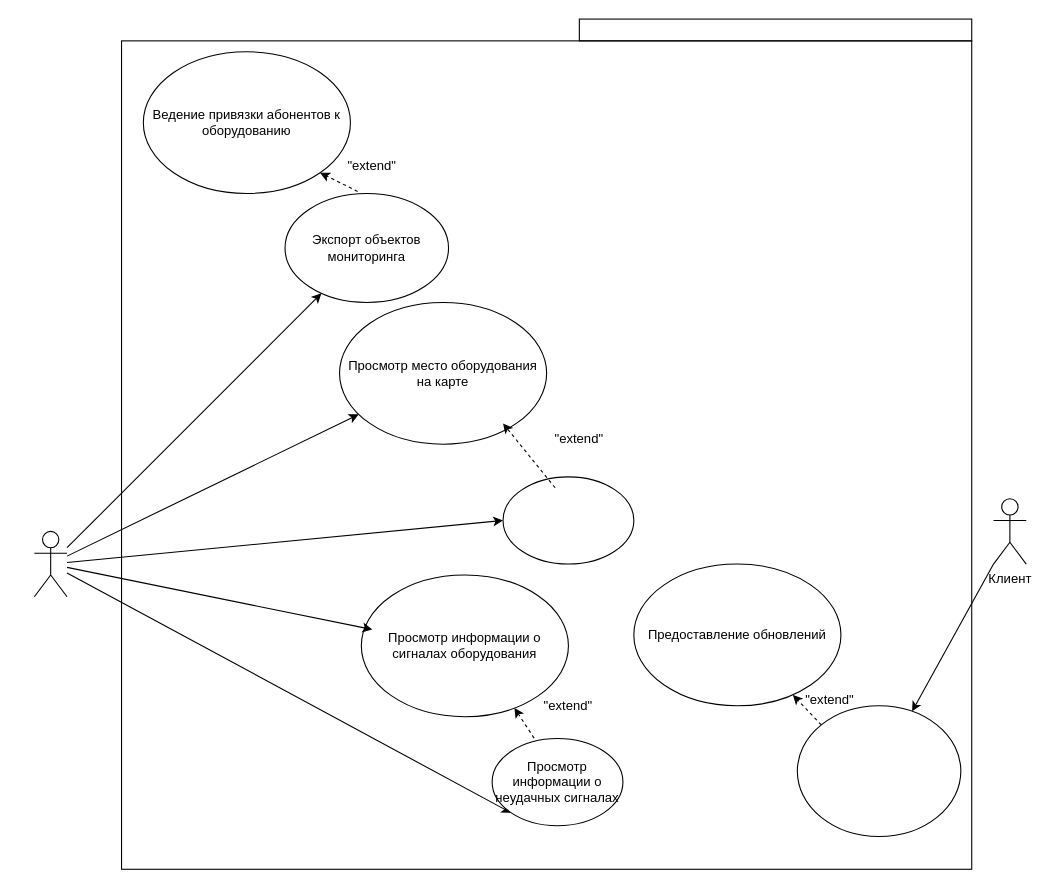
Some shapes in this 1051 by 888 pixel diagram are drawn without their labels. The shapes that lost their labels are listed below. From the top down, each one's centre as x and y in pixels, then its label:
(x=775, y=29): Модуль "Учета и паспортизации активов"
(x=568, y=520): Просмотр состояния оборудования
(x=50, y=563): Сотрудник
(x=878, y=771): Получение обновлений
